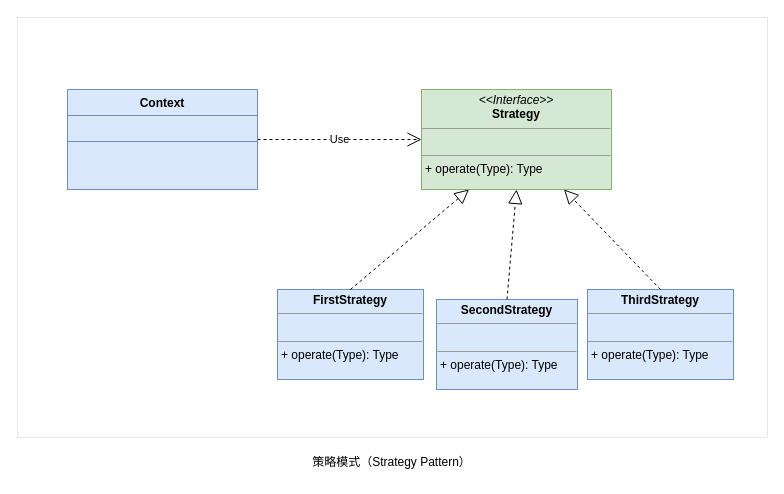
Some shapes in this 784 by 494 pixel diagram are drawn without their labels. The shapes that lost their labels are listed below. From the top down, each one's centre as x and y in pixels, then its label:
At point (162, 128): "- Strategy strategy".
At point (162, 165): "+ Context(Strategy strategy) + operate(Type): Type".
